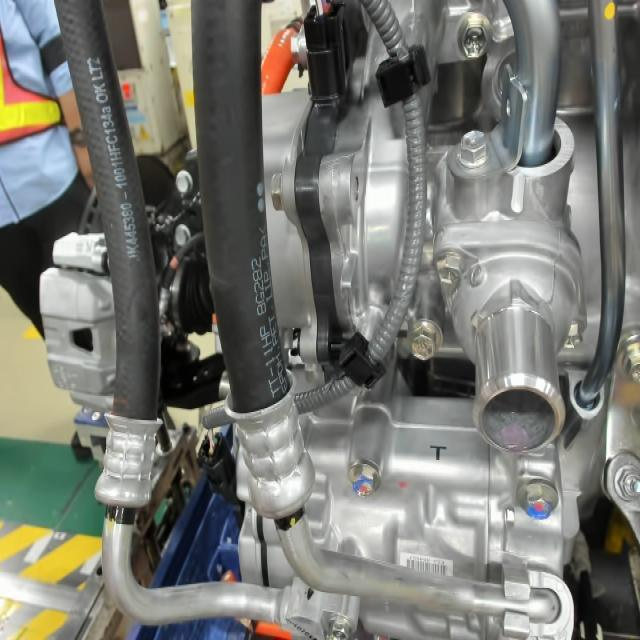Compressor-T: (424, 436, 451, 467)
